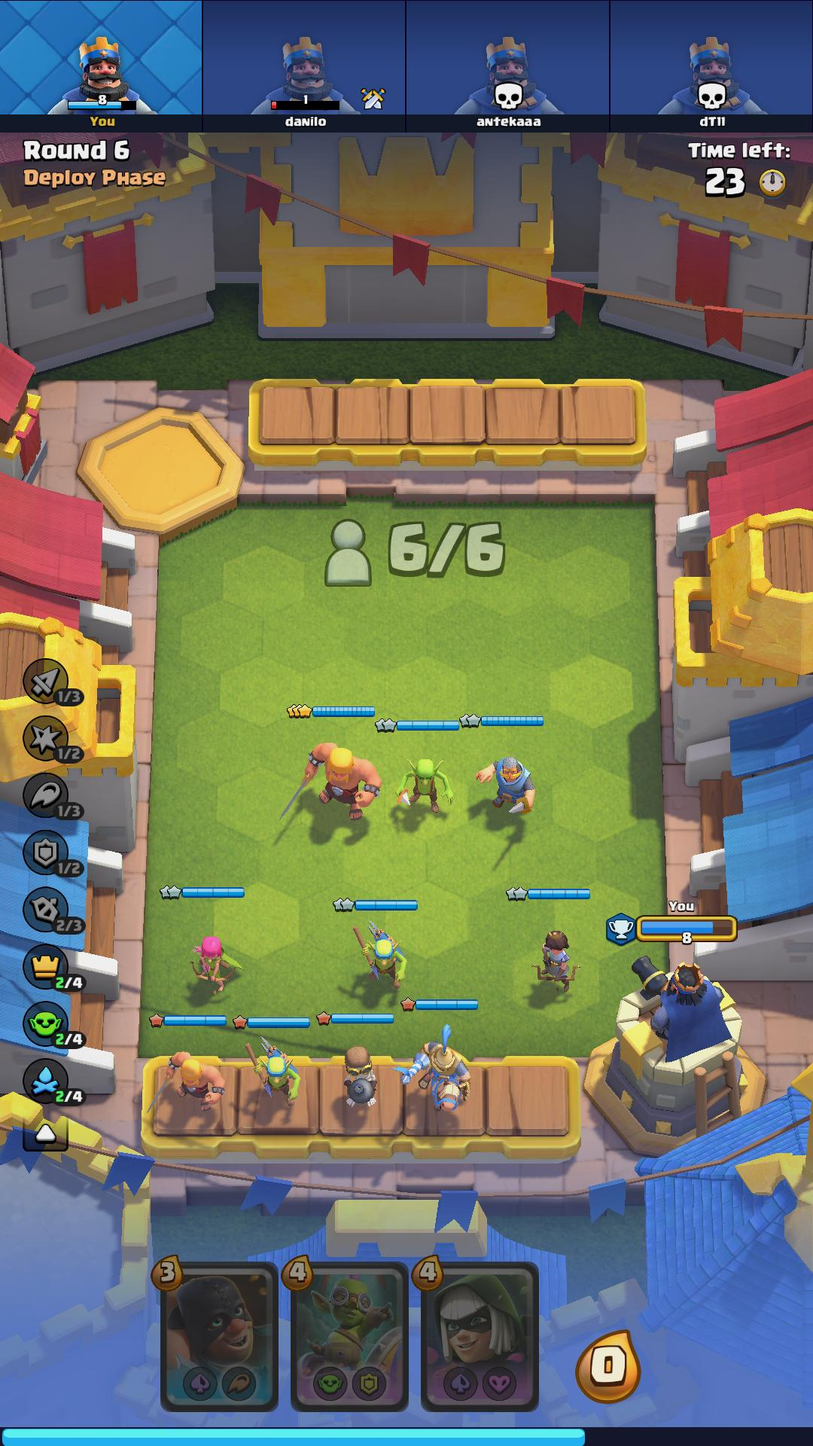archer: (175, 922, 243, 990)
barbarian: (272, 733, 387, 824), (138, 1046, 229, 1107)
bomber: (334, 1034, 384, 1122)
goblin: (394, 752, 455, 827)
hand-bandit: (423, 1264, 536, 1409)
hand-executioner: (163, 1264, 276, 1409)
hand-machine: (291, 1265, 405, 1408)
knight: (468, 749, 543, 821)
prince: (395, 1022, 474, 1114)
princess: (524, 920, 587, 999)
spear: (235, 1030, 310, 1101), (341, 917, 416, 986)
